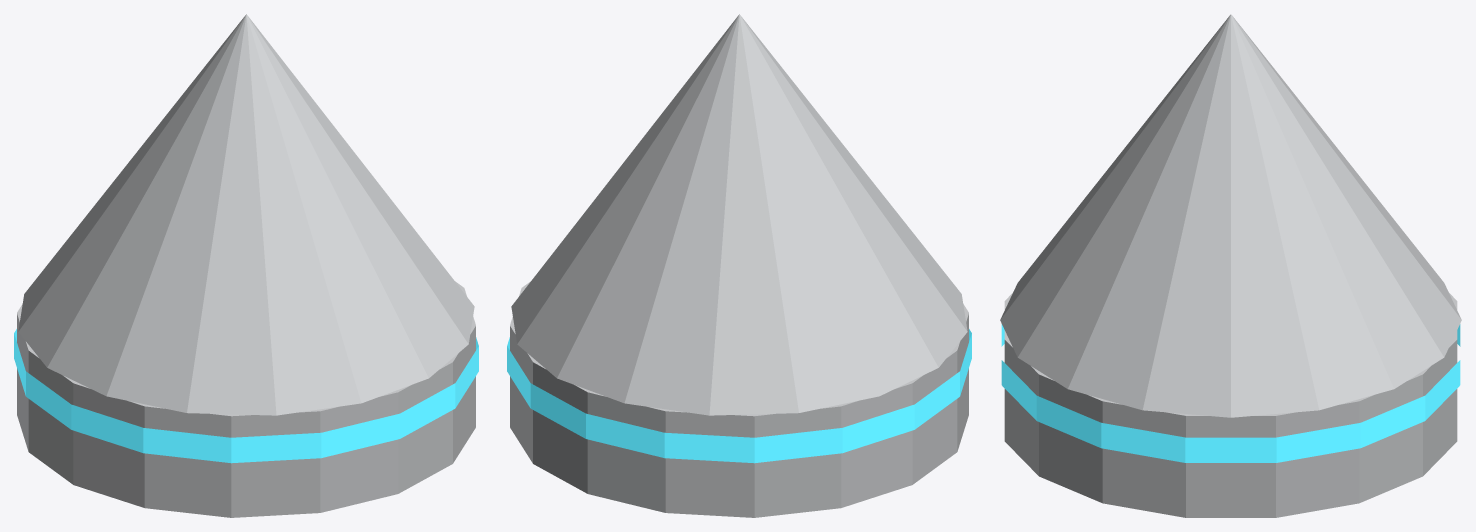
The model's file is ship_nose.glb.
3 views of the same model, side by side, from view 1: azimuth 30°, elevation 25°; view 2: azimuth 150°, elevation 25°; view 3: azimuth 270°, elevation 25° (orthographic).
Parts seen in each view (by area): view 1: ship_nose; view 2: ship_nose; view 3: ship_nose.
Boxes of the visible parts, left/top/right/bottom form: ship_nose: left=14, top=14, right=478, bottom=517; ship_nose: left=507, top=14, right=971, bottom=517; ship_nose: left=1000, top=14, right=1461, bottom=517.
Size of the model in its own units: 1.64 by 1.6 by 1.64.
